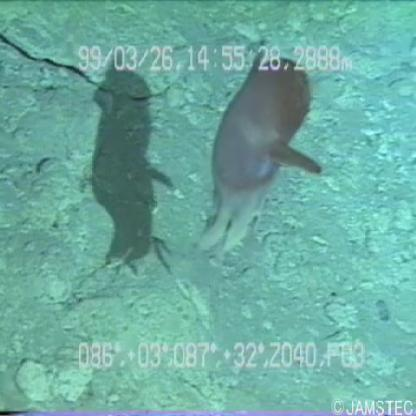Bio: (190, 34, 328, 258)
